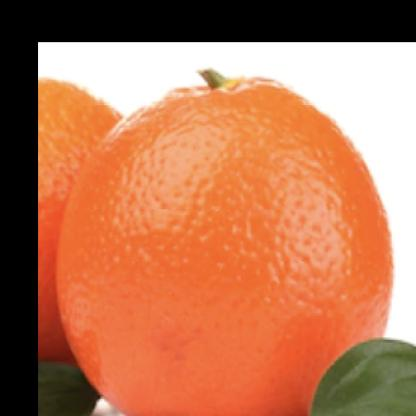fresh: (63, 65, 395, 416)
